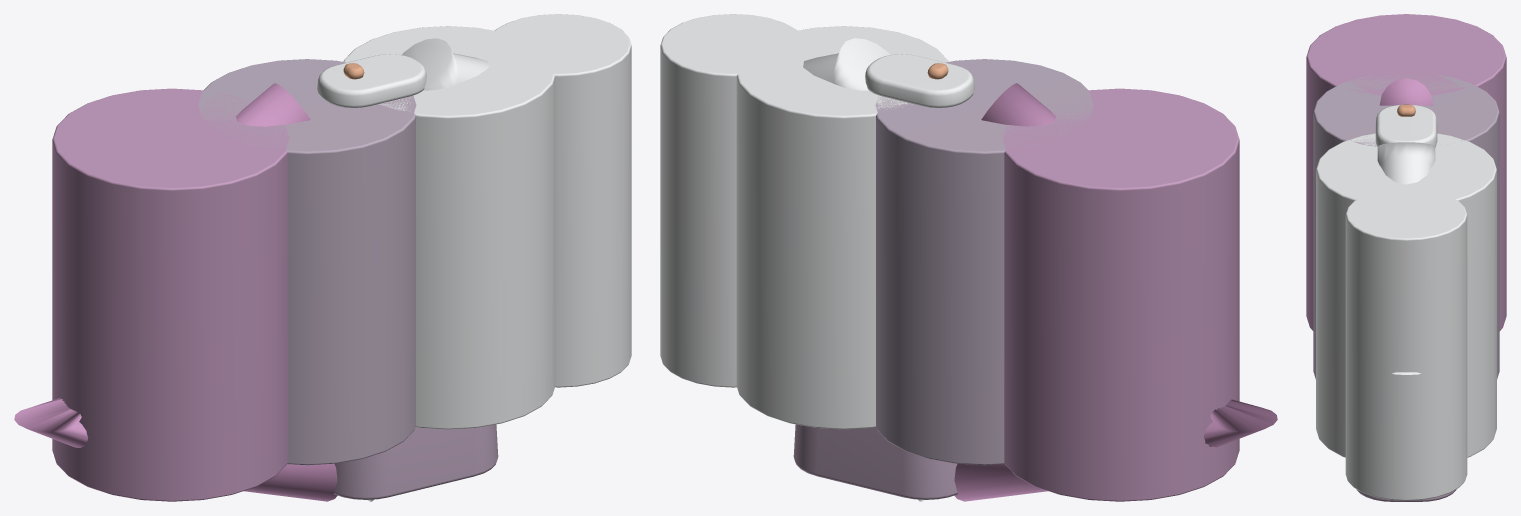
File: case02_produit_neutre_chaussure_spatial_decomposed.glb
3 views of the same model, side by side, from view 1: azimuth 30°, elevation 25°; view 2: azimuth 150°, elevation 25°; view 3: azimuth 270°, elevation 25° (orthographic). The views are drawn at different scales.
Parts seen in each view (by area): view 1: Element_Lateral_3_1, Element_Lateral_3_3, Element_Lateral_3_2, Element_Lateral_3_4, Corps_Principal_Strate_2, Anse_Courbee_Gauche, Corps_Principal_Strate_4, Anse_Courbee_Droite; view 2: Element_Lateral_3_1, Element_Lateral_3_3, Element_Lateral_3_2, Element_Lateral_3_4, Corps_Principal_Strate_2, Anse_Courbee_Gauche, Corps_Principal_Strate_4, Anse_Courbee_Droite; view 3: Element_Lateral_3_4, Element_Lateral_3_3, Element_Lateral_3_1, Element_Lateral_3_2, Anse_Courbee_Droite, Corps_Principal_Strate_4, Anse_Courbee_Gauche, Corps_Principal_Strate_2.
Part boxes in pixels (x1=…): Element_Lateral_3_1: x1=52, y1=88, x2=289, y2=501; Element_Lateral_3_3: x1=343, y1=26, x2=555, y2=429; Element_Lateral_3_2: x1=198, y1=59, x2=416, y2=465; Element_Lateral_3_4: x1=489, y1=14, x2=631, y2=387; Corps_Principal_Strate_2: x1=334, y1=424, x2=498, y2=499; Anse_Courbee_Gauche: x1=14, y1=83, x2=337, y2=501; Corps_Principal_Strate_4: x1=317, y1=54, x2=426, y2=107; Anse_Courbee_Droite: x1=368, y1=38, x2=488, y2=501; Element_Lateral_3_1: x1=1002, y1=88, x2=1239, y2=501; Element_Lateral_3_3: x1=736, y1=26, x2=948, y2=429; Element_Lateral_3_2: x1=875, y1=59, x2=1093, y2=465; Element_Lateral_3_4: x1=660, y1=14, x2=803, y2=387; Corps_Principal_Strate_2: x1=793, y1=424, x2=957, y2=499; Anse_Courbee_Gauche: x1=954, y1=83, x2=1277, y2=501; Corps_Principal_Strate_4: x1=865, y1=54, x2=974, y2=107; Anse_Courbee_Droite: x1=803, y1=38, x2=923, y2=501; Element_Lateral_3_4: x1=1345, y1=192, x2=1467, y2=500; Element_Lateral_3_3: x1=1316, y1=133, x2=1496, y2=457; Element_Lateral_3_1: x1=1306, y1=14, x2=1506, y2=330; Element_Lateral_3_2: x1=1313, y1=73, x2=1499, y2=379; Anse_Courbee_Droite: x1=1377, y1=142, x2=1435, y2=374; Corps_Principal_Strate_4: x1=1375, y1=105, x2=1437, y2=146; Anse_Courbee_Gauche: x1=1379, y1=78, x2=1433, y2=105; Corps_Principal_Strate_2: x1=1356, y1=489, x2=1456, y2=501.
Size of the model in its own units: 0.3034 by 0.2093 by 0.1038.
